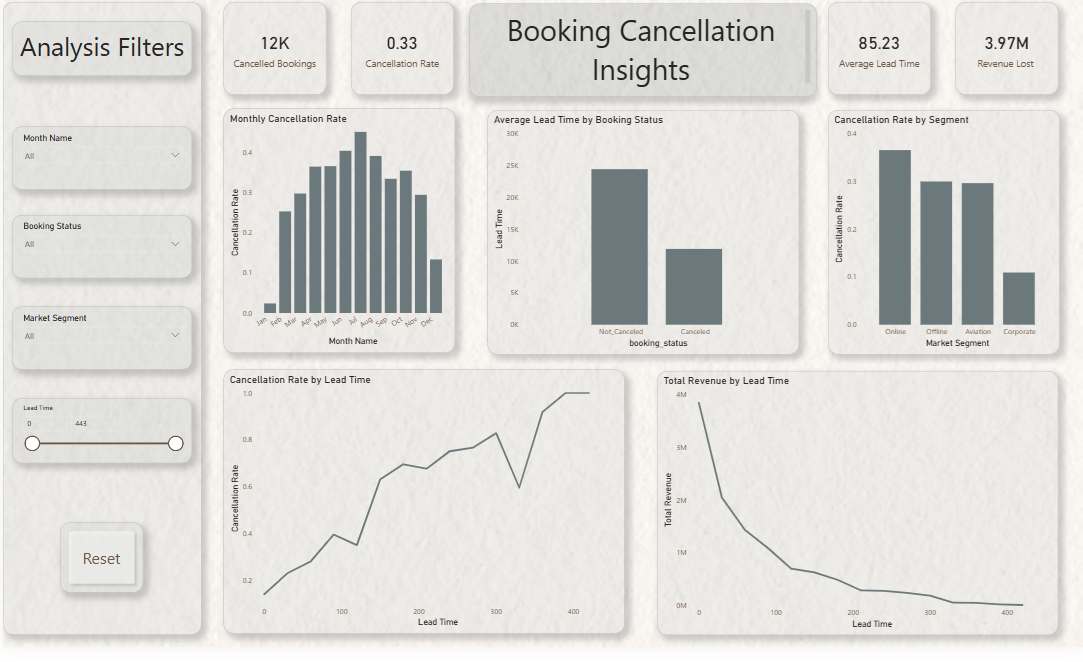

This screenshot's page, from the dashboard's own definition file:
{"tool":"powerbi","page":{"name":"Page 3","canvas":[1800,1100],"ordinal":2},"visuals":[{"type":"textbox","box":[776.3,26.3,578.9,155.3],"z":0},{"type":"card","fields":{"Values":["Avg(Hotel Reservations.lead_time)"]},"box":[1373.8,23.8,171.4,154.8],"z":1000},{"type":"columnChart","title":"Average Lead Time by Booking Status","fields":{"Category":["Hotel Reservations.booking_status"],"Y":["CountNonNull(Hotel Reservations.lead_time (bins))"]},"box":[807.1,204.8,519,407.1],"z":2000},{"type":"lineChart","title":"Total Revenue by Lead Time","fields":{"Y":["Hotel Reservations.Total Revenue"],"Category":["Hotel Reservations.lead_time (bins)"]},"box":[1091.1,640,668.9,440],"z":3000},{"type":"textbox","box":[0,23.8,331,1054.8],"z":4000},{"type":"textbox","box":[14.3,57.1,300,90.5],"z":5000},{"type":"columnChart","title":"Cancellation Rate by Segment","fields":{"Category":["Hotel Reservations.market_segment_type"],"Y":["Hotel Reservations.Cancellation Rate"]},"box":[1373.8,204.8,385.7,407.1],"z":6000},{"type":"lineChart","title":"Cancellation Rate by Lead Time","fields":{"Y":["Hotel Reservations.Cancellation Rate"],"Category":["Hotel Reservations.lead_time (bins)"]},"box":[366.7,637.8,668.9,440],"z":7000},{"type":"columnChart","title":"Monthly Cancellation Rate","fields":{"Category":["Hotel Reservations.Month Name"],"Y":["Hotel Reservations.Cancellation Rate"]},"box":[366.7,202.4,385.7,407.1],"z":8000},{"type":"card","fields":{"Values":["Sum(Hotel Reservations.is_cancelled)"]},"box":[366.7,23.8,171.4,154.8],"z":9000},{"type":"card","fields":{"Values":["Hotel Reservations.Cancellation Rate"]},"box":[581,26.2,171.4,154.8],"z":10000},{"type":"card","fields":{"Values":["Sum(Hotel Reservations.Revenue_Lost)"]},"box":[1588.1,23.8,171.4,154.8],"z":11000},{"type":"slicer","fields":{"Values":["Hotel Reservations.Month Name"]},"box":[15,232.5,300,105],"z":12000},{"type":"slicer","fields":{"Values":["Hotel Reservations.booking_status"]},"box":[15,380,300,105],"z":13000},{"type":"slicer","fields":{"Values":["Hotel Reservations.market_segment_type"]},"box":[13.9,533.3,300,105.6],"z":14000},{"type":"slicer","fields":{"Values":["Hotel Reservations.lead_time"]},"box":[13.9,686.1,300,108.3],"z":15000},{"type":"actionButton","box":[94.4,891.7,138.9,116.7],"z":16000}]}

Visuals, with their boxes in screenshot pixels (x1, y1, x2, y2), scaled from the page's 1800x1100 canvas onto the 1083x662 screenshot:
textbox: BBox(467, 16, 815, 109)
card - Avg(Hotel Reservations.lead_time): BBox(827, 14, 930, 107)
"Average Lead Time by Booking Status" columnChart: BBox(486, 123, 798, 368)
"Total Revenue by Lead Time" lineChart: BBox(656, 385, 1059, 650)
textbox: BBox(0, 14, 199, 649)
textbox: BBox(9, 34, 189, 89)
"Cancellation Rate by Segment" columnChart: BBox(827, 123, 1059, 368)
"Cancellation Rate by Lead Time" lineChart: BBox(221, 384, 623, 649)
"Monthly Cancellation Rate" columnChart: BBox(221, 122, 453, 367)
card - Sum(Hotel Reservations.is_cancelled): BBox(221, 14, 324, 107)
card - Hotel Reservations.Cancellation Rate: BBox(350, 16, 453, 109)
card - Sum(Hotel Reservations.Revenue_Lost): BBox(956, 14, 1059, 107)
slicer - Hotel Reservations.Month Name: BBox(9, 140, 190, 203)
slicer - Hotel Reservations.booking_status: BBox(9, 229, 190, 292)
slicer - Hotel Reservations.market_segment_type: BBox(8, 321, 189, 385)
slicer - Hotel Reservations.lead_time: BBox(8, 413, 189, 478)
actionButton: BBox(57, 537, 140, 607)
